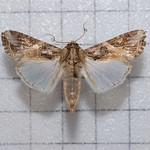Spodoptera litura: (1, 22, 147, 111)
